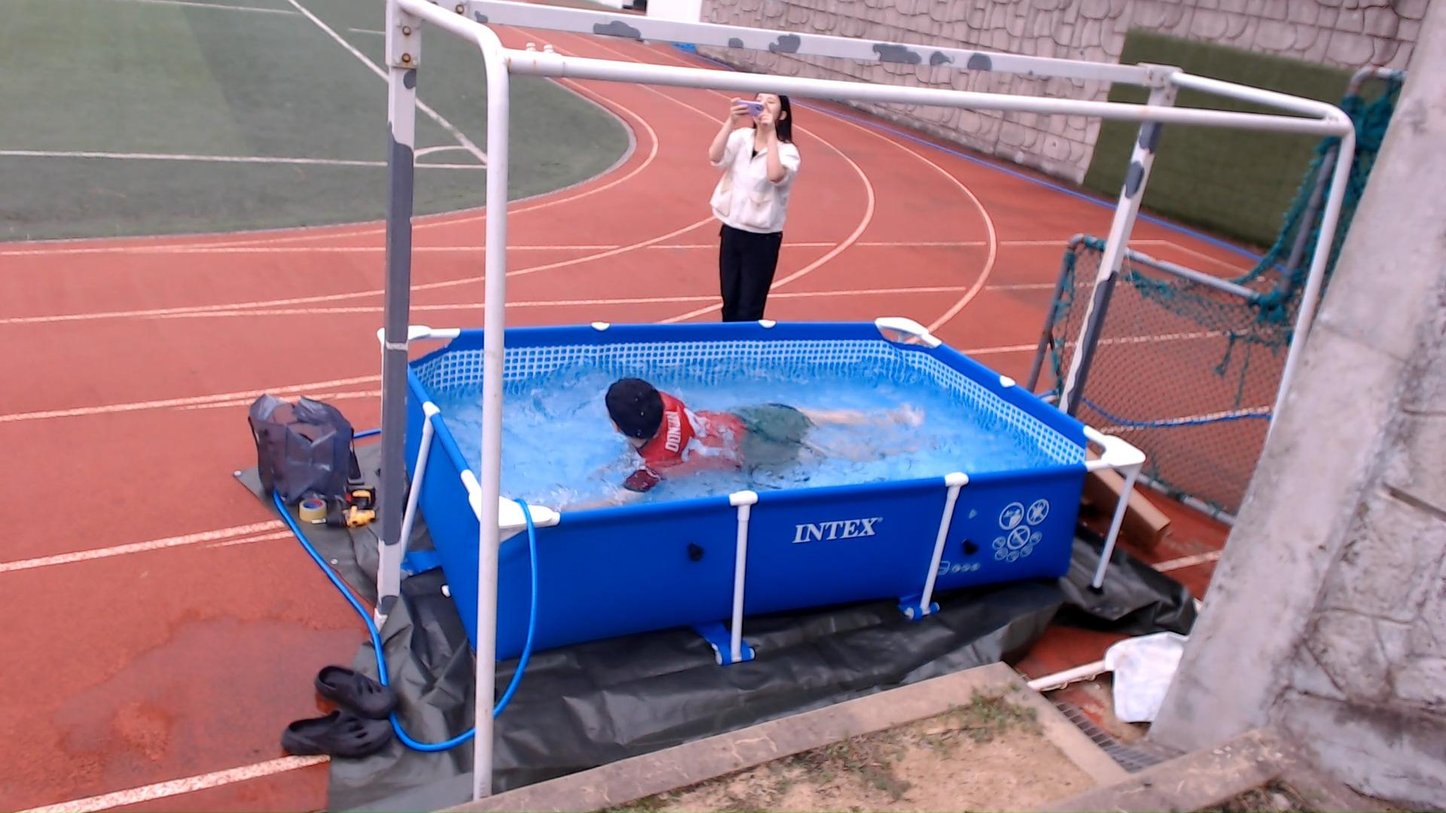Swimming: (508, 339, 943, 501)
